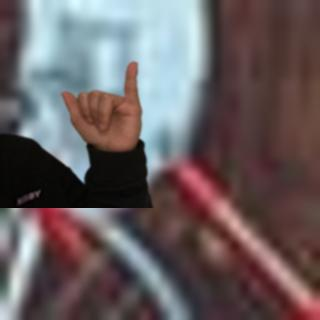HAVE: (57, 54, 153, 157)
